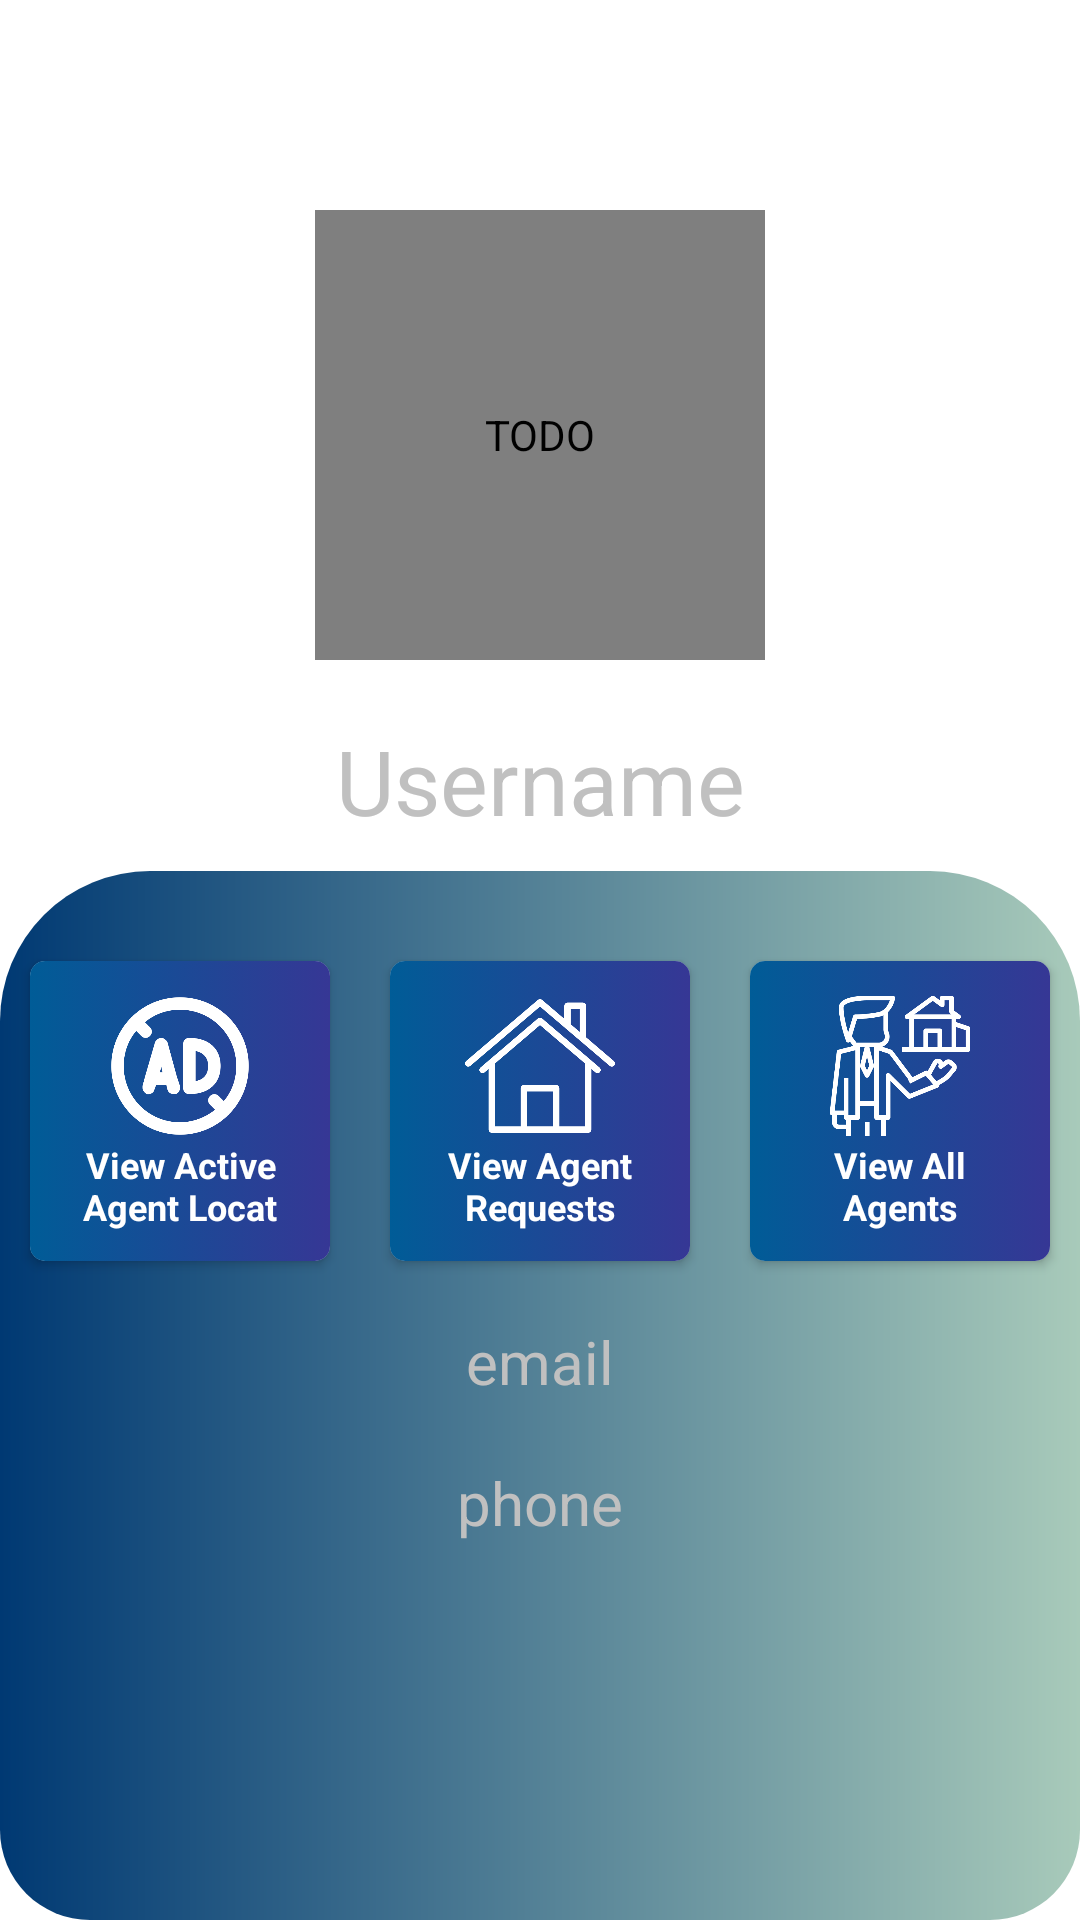

Icon click points for this 1080w x 1920h phone screenshot, format point (x, y):
adicon: point (183, 1066)
agenticon: point (902, 1066)
house: point (540, 1066)
